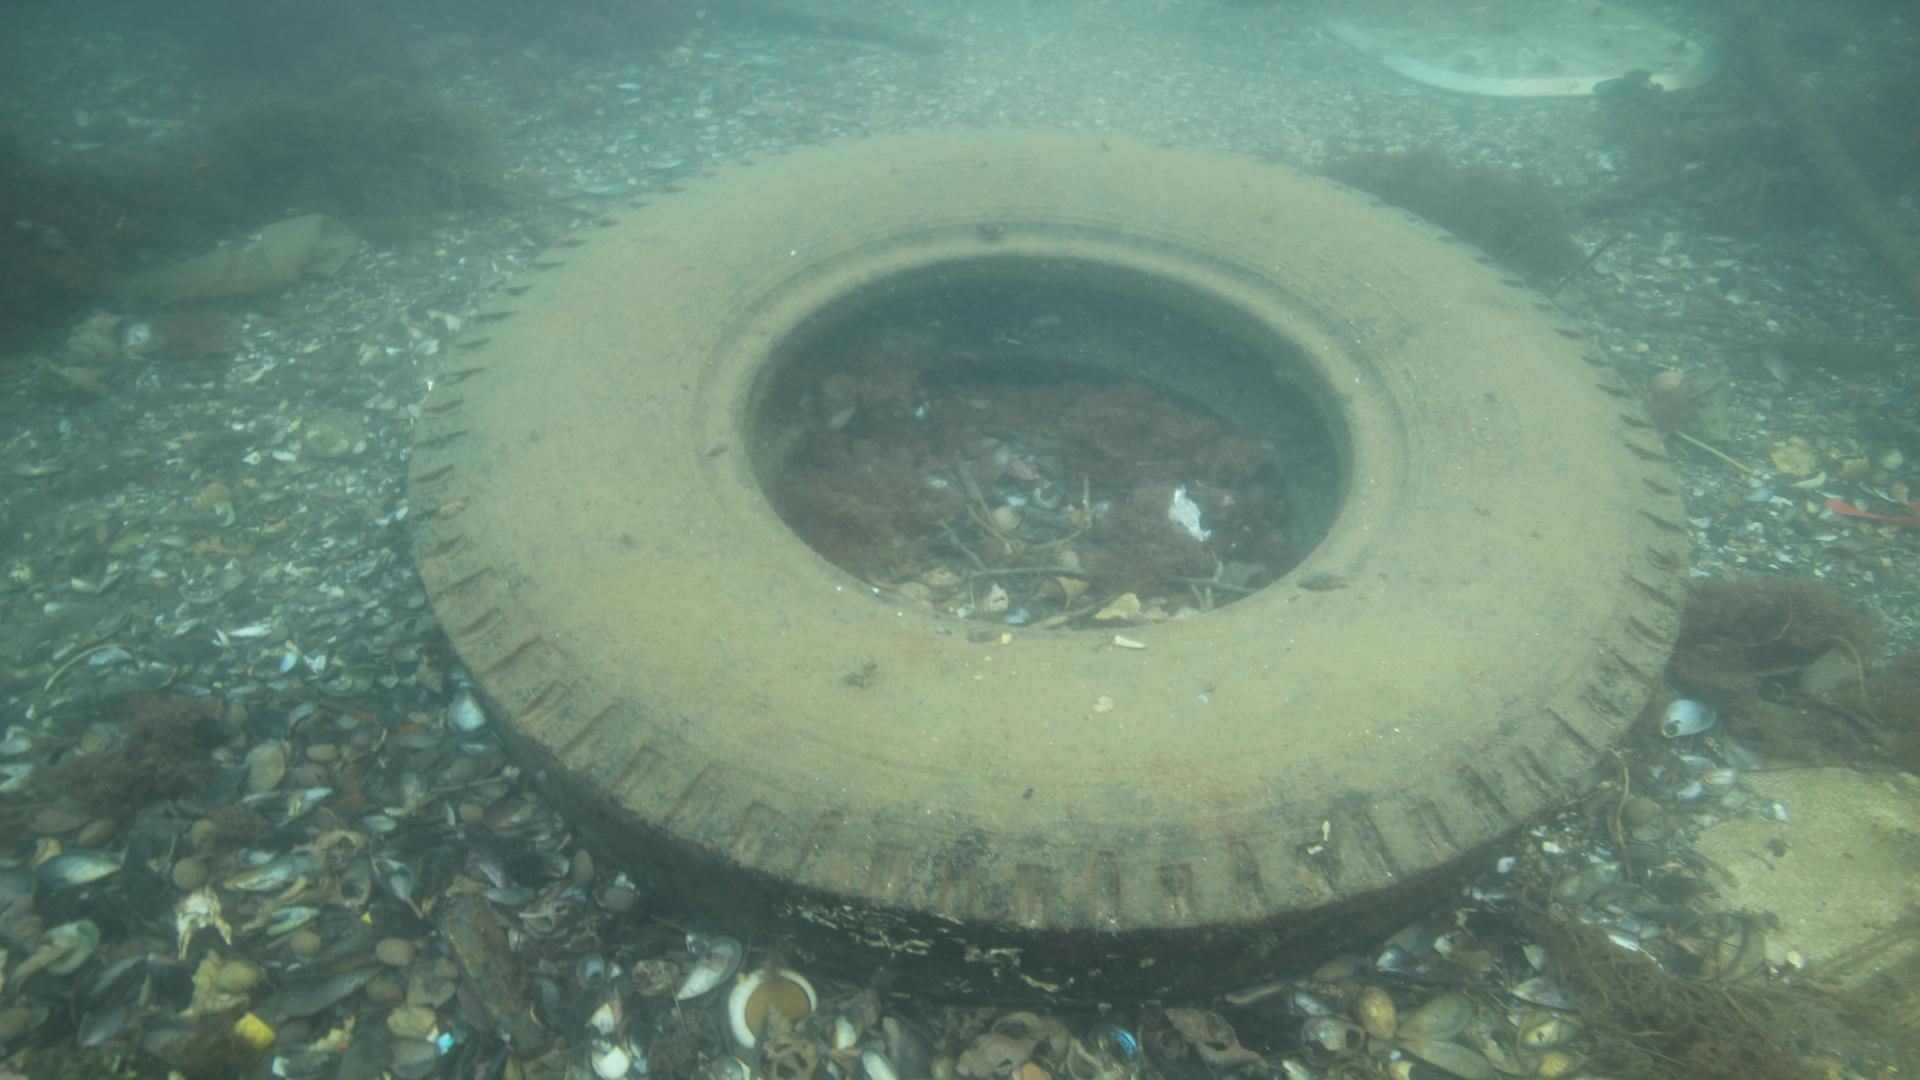rope: (1725, 1, 1920, 310)
tire: (400, 127, 1692, 1004)
